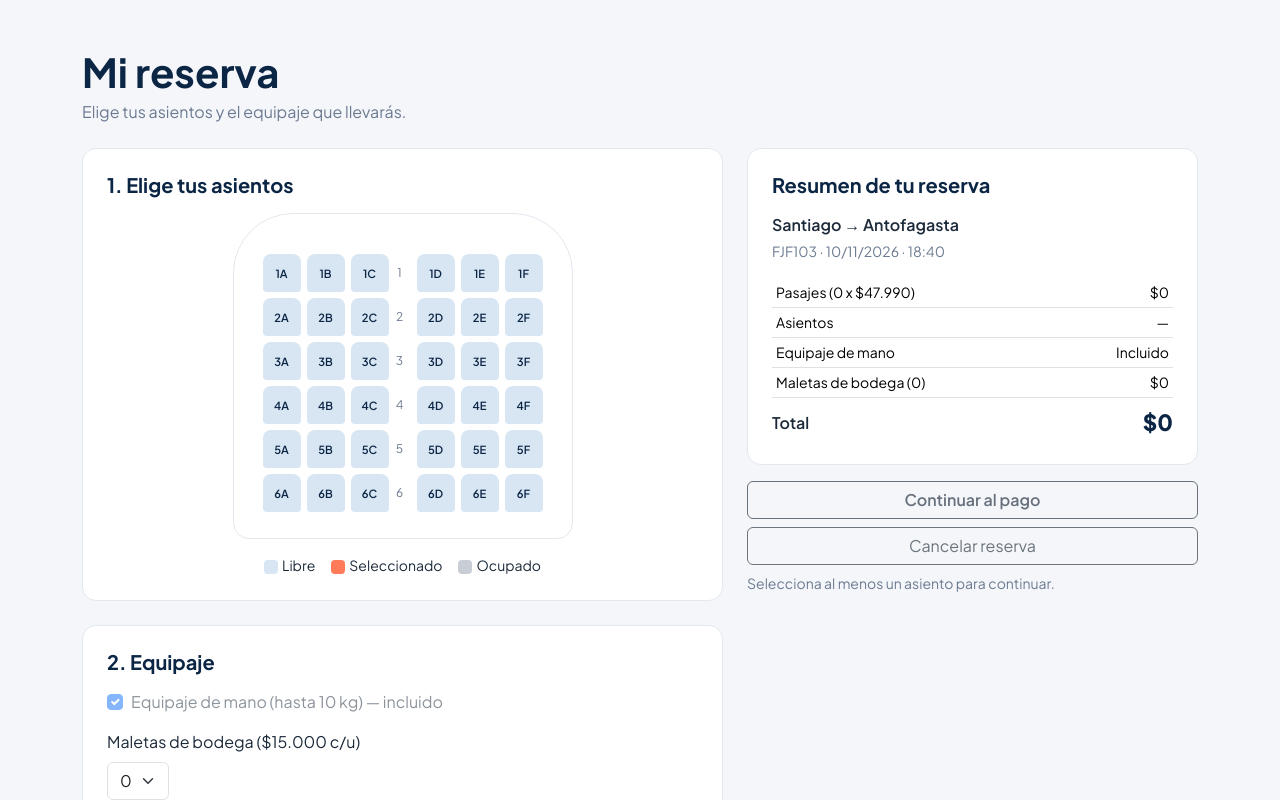
Test: MiReserva › el botón para pagar está deshabilitado hasta elegir un asiento
The width and height of the screenshot is (1280, 800).
expect the button "Continuar al pago" is disabled: met, box 747,481 -> 1198,519
Click the button "1A": {"x": 282, "y": 273} 262,254 -> 300,292
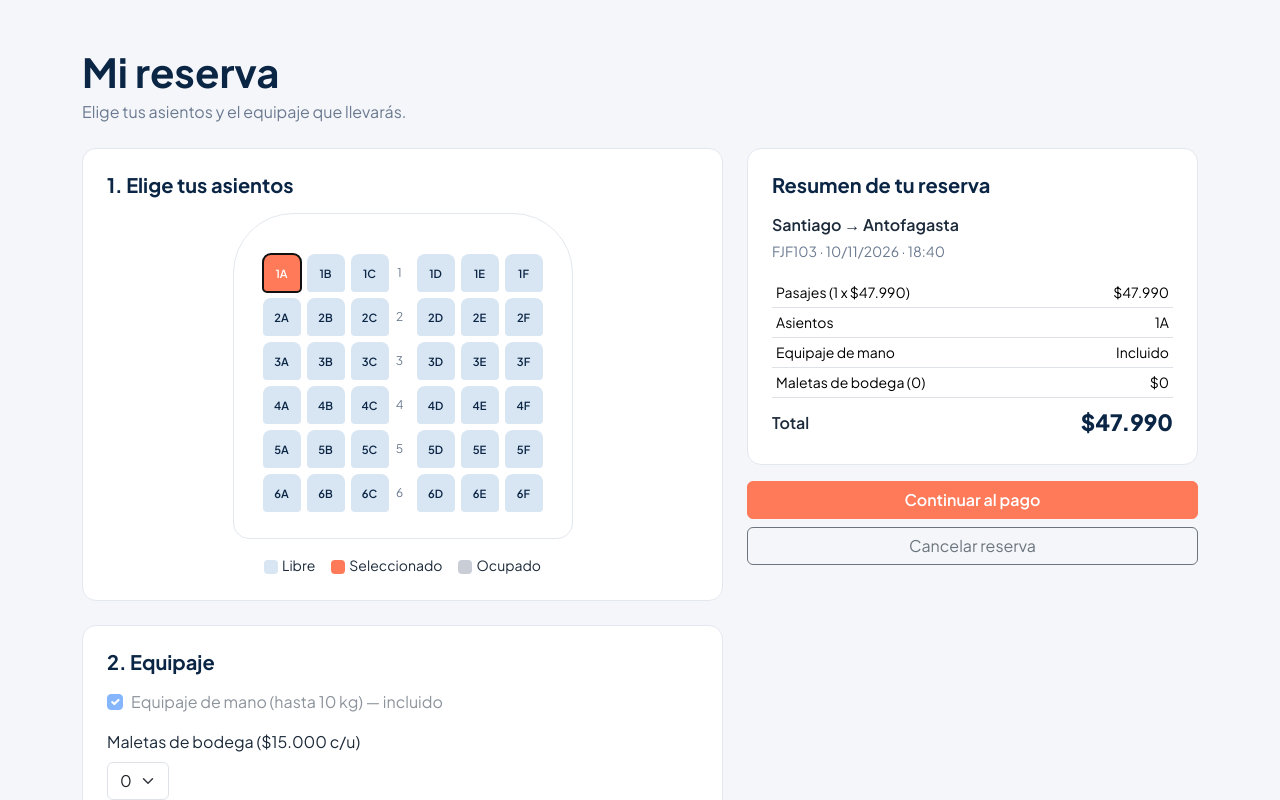
expect the button "Continuar al pago" is enabled: met, box 747,481 -> 1198,519
